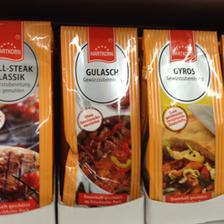Gewuerze: (59, 25, 139, 208), (141, 28, 223, 202), (0, 19, 54, 214)
